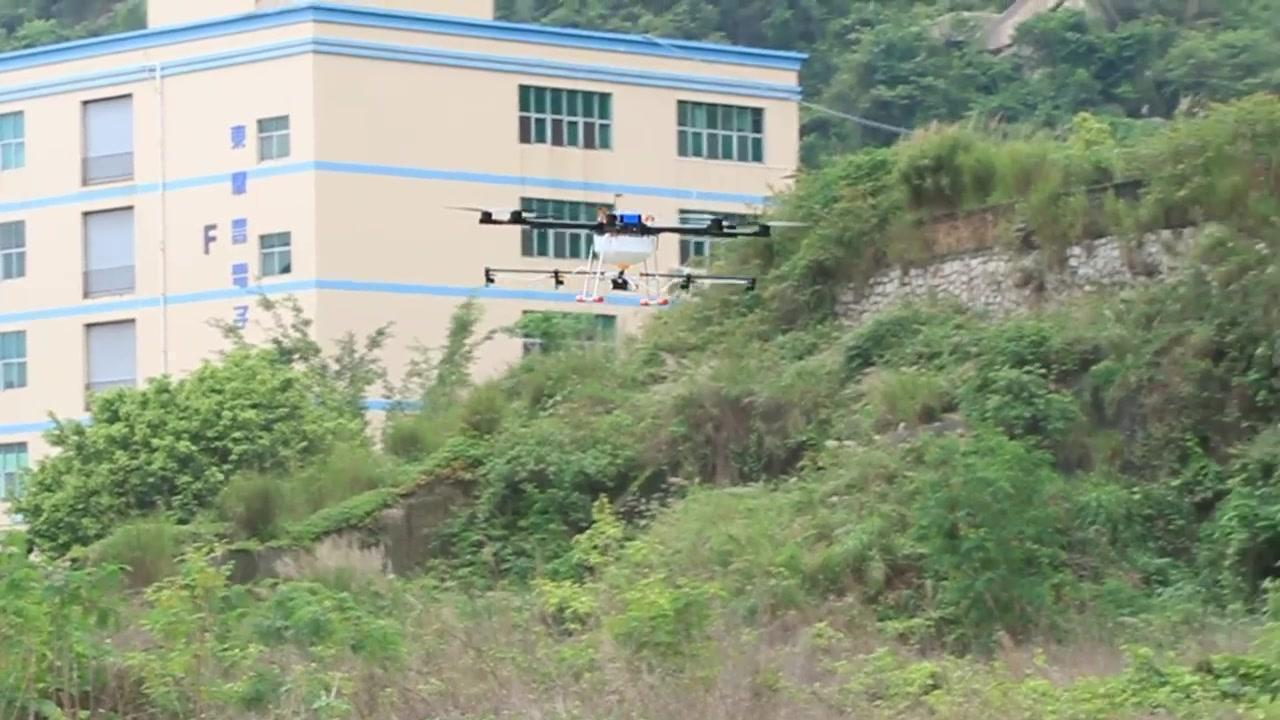UAV: (457, 208, 807, 306)
